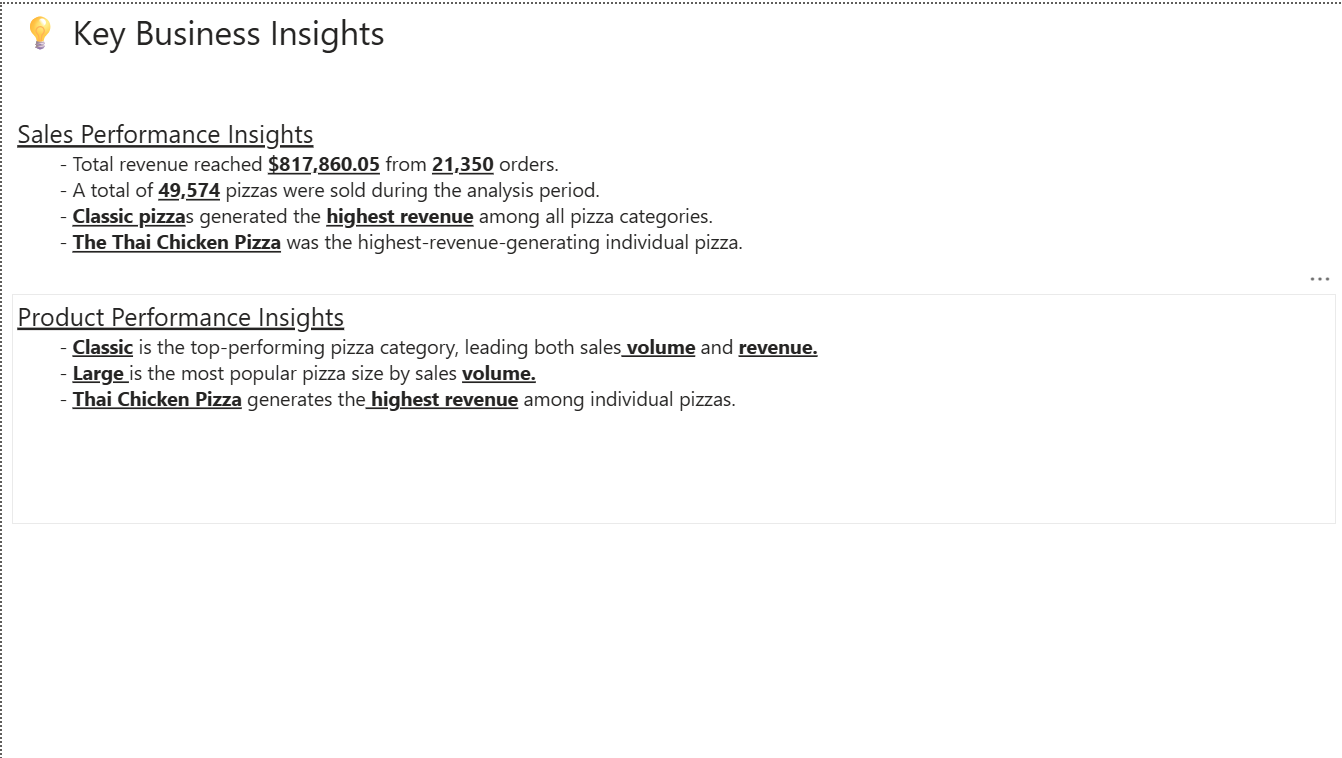

What the dashboard file says about the page in this screenshot:
{"tool":"powerbi","page":{"name":"💡 Key Business Insights","canvas":[1280,720],"ordinal":4},"visuals":[{"type":"textbox","box":[10,0,1270,103],"z":0},{"type":"textbox","box":[10,102.9,1270,172.9],"z":1},{"type":"textbox","box":[10,275.7,1260,220],"z":2}]}

Visuals, with their boxes in screenshot pixels (x1, y1, x2, y2), scaled from the page's 1280x720 canvas onto the 1342x758 screenshot:
textbox: Rect(10, 0, 1341, 108)
textbox: Rect(10, 108, 1341, 290)
textbox: Rect(10, 290, 1332, 522)
